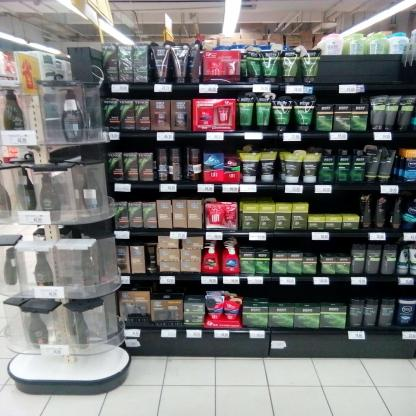Void: (323, 49, 405, 81), (312, 197, 364, 212), (276, 236, 315, 250)
